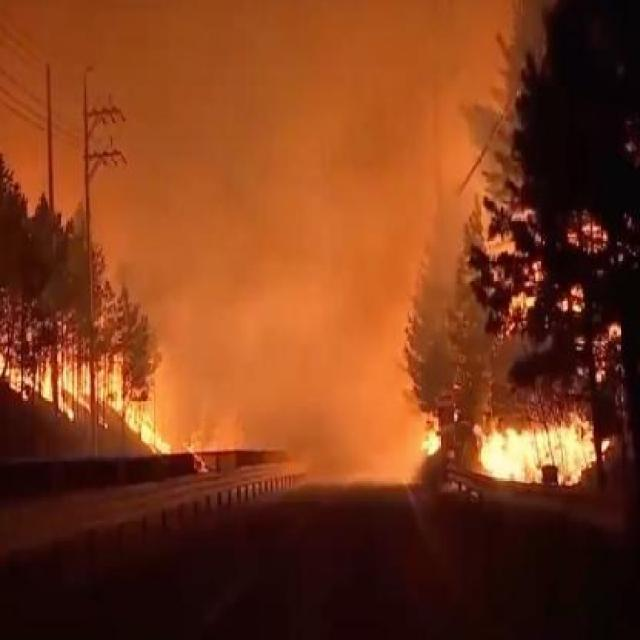Fire: (9, 360, 166, 454), (478, 416, 596, 489), (184, 434, 208, 474), (422, 428, 442, 456)
